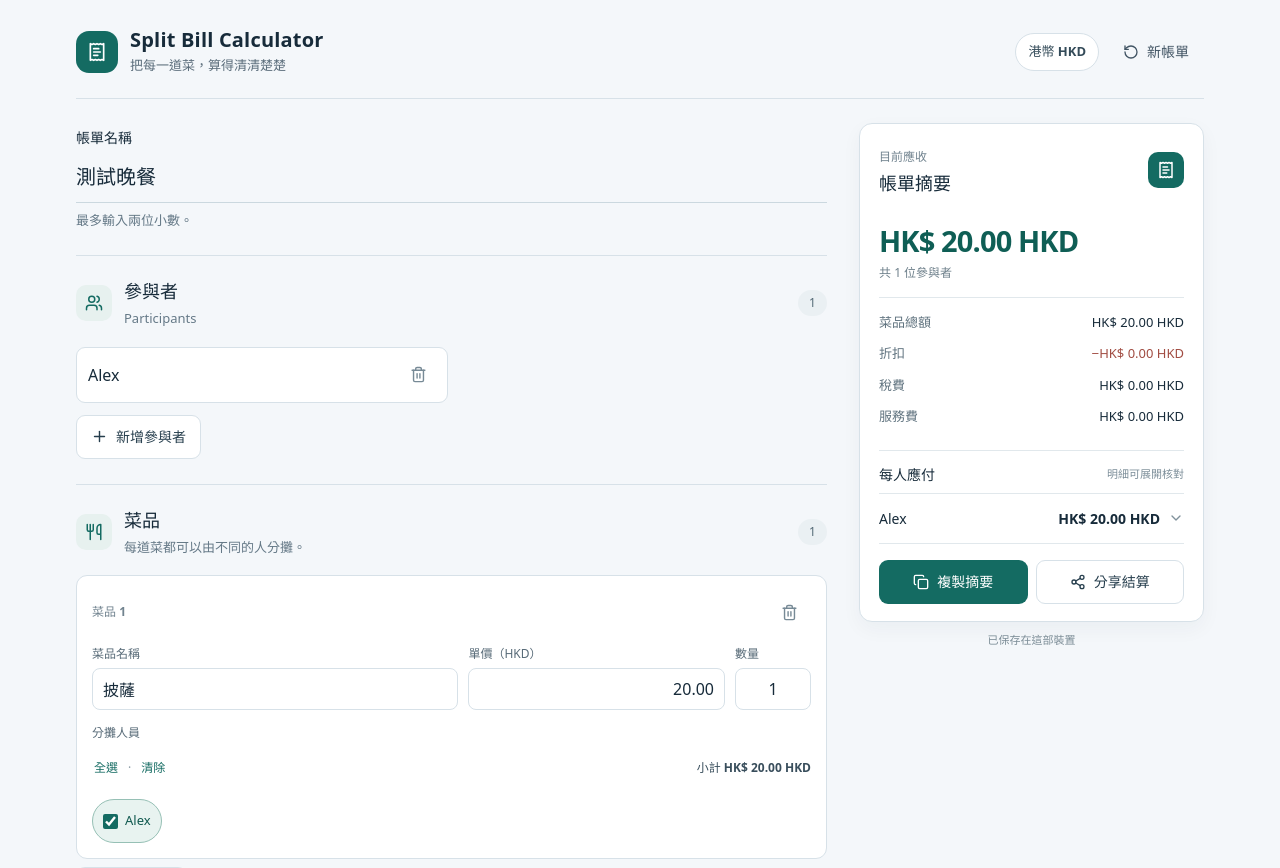
Test: 主要復原互動 › 剪貼簿拒絕時顯示可手動複製的結算摘要
Click the button "複製摘要": click(953, 582) [879, 560, 1028, 604]
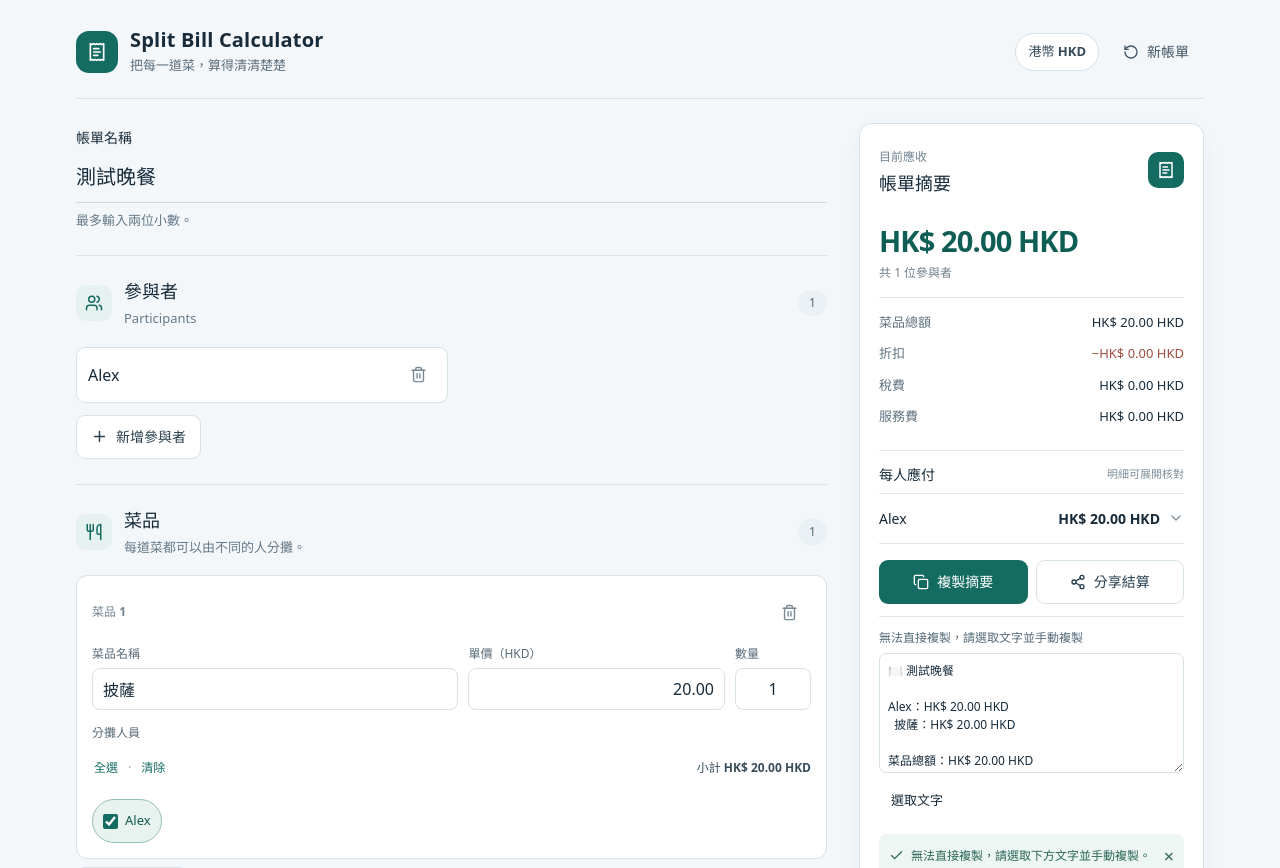
Check: the text box with id "manual-summary" is shown, box [879, 653, 1184, 773]
Check: the text "無法直接複製" is shown, box [879, 629, 1083, 646]
